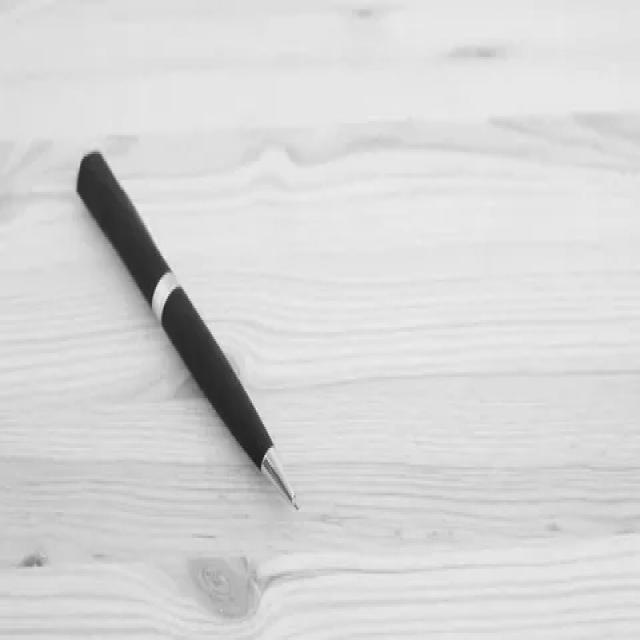pencil: (66, 142, 313, 518)
